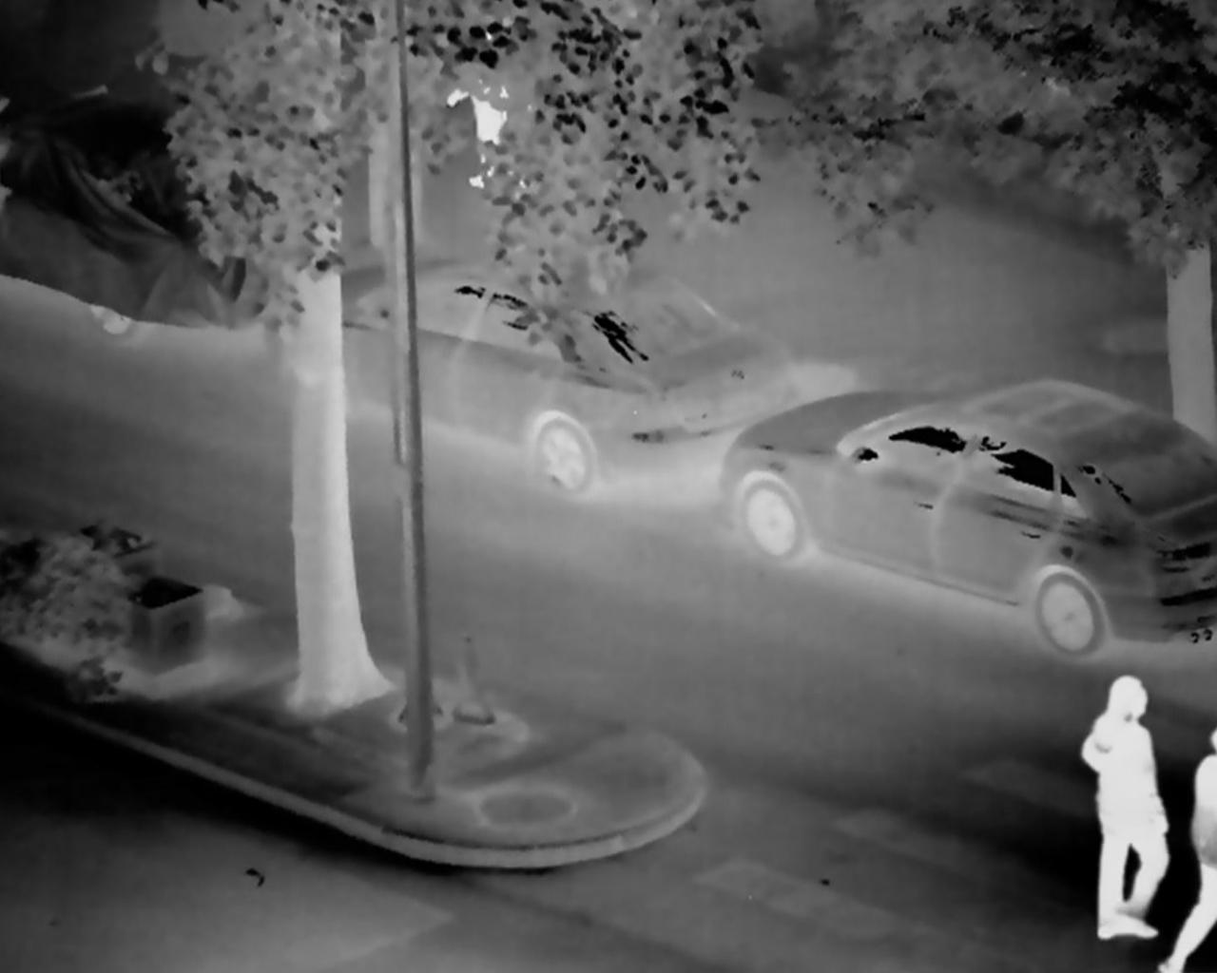person: (1076, 671, 1169, 947), (445, 58, 537, 207), (1160, 726, 1215, 973)
